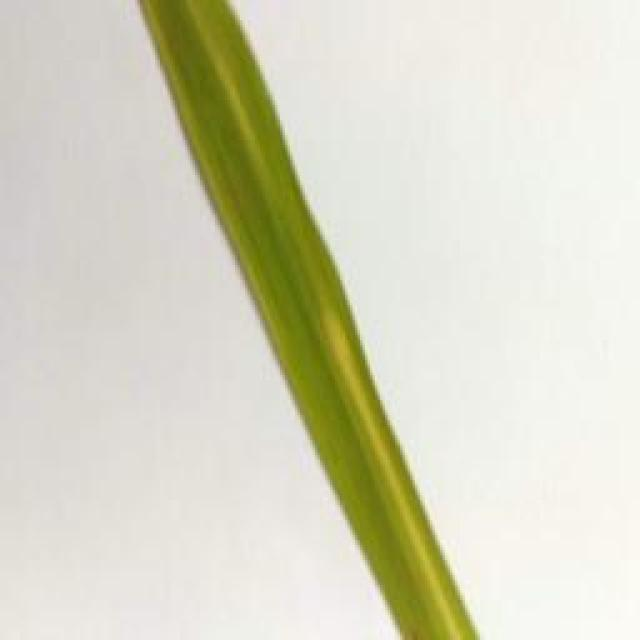Bacterial_Blight: (290, 292, 480, 640)
